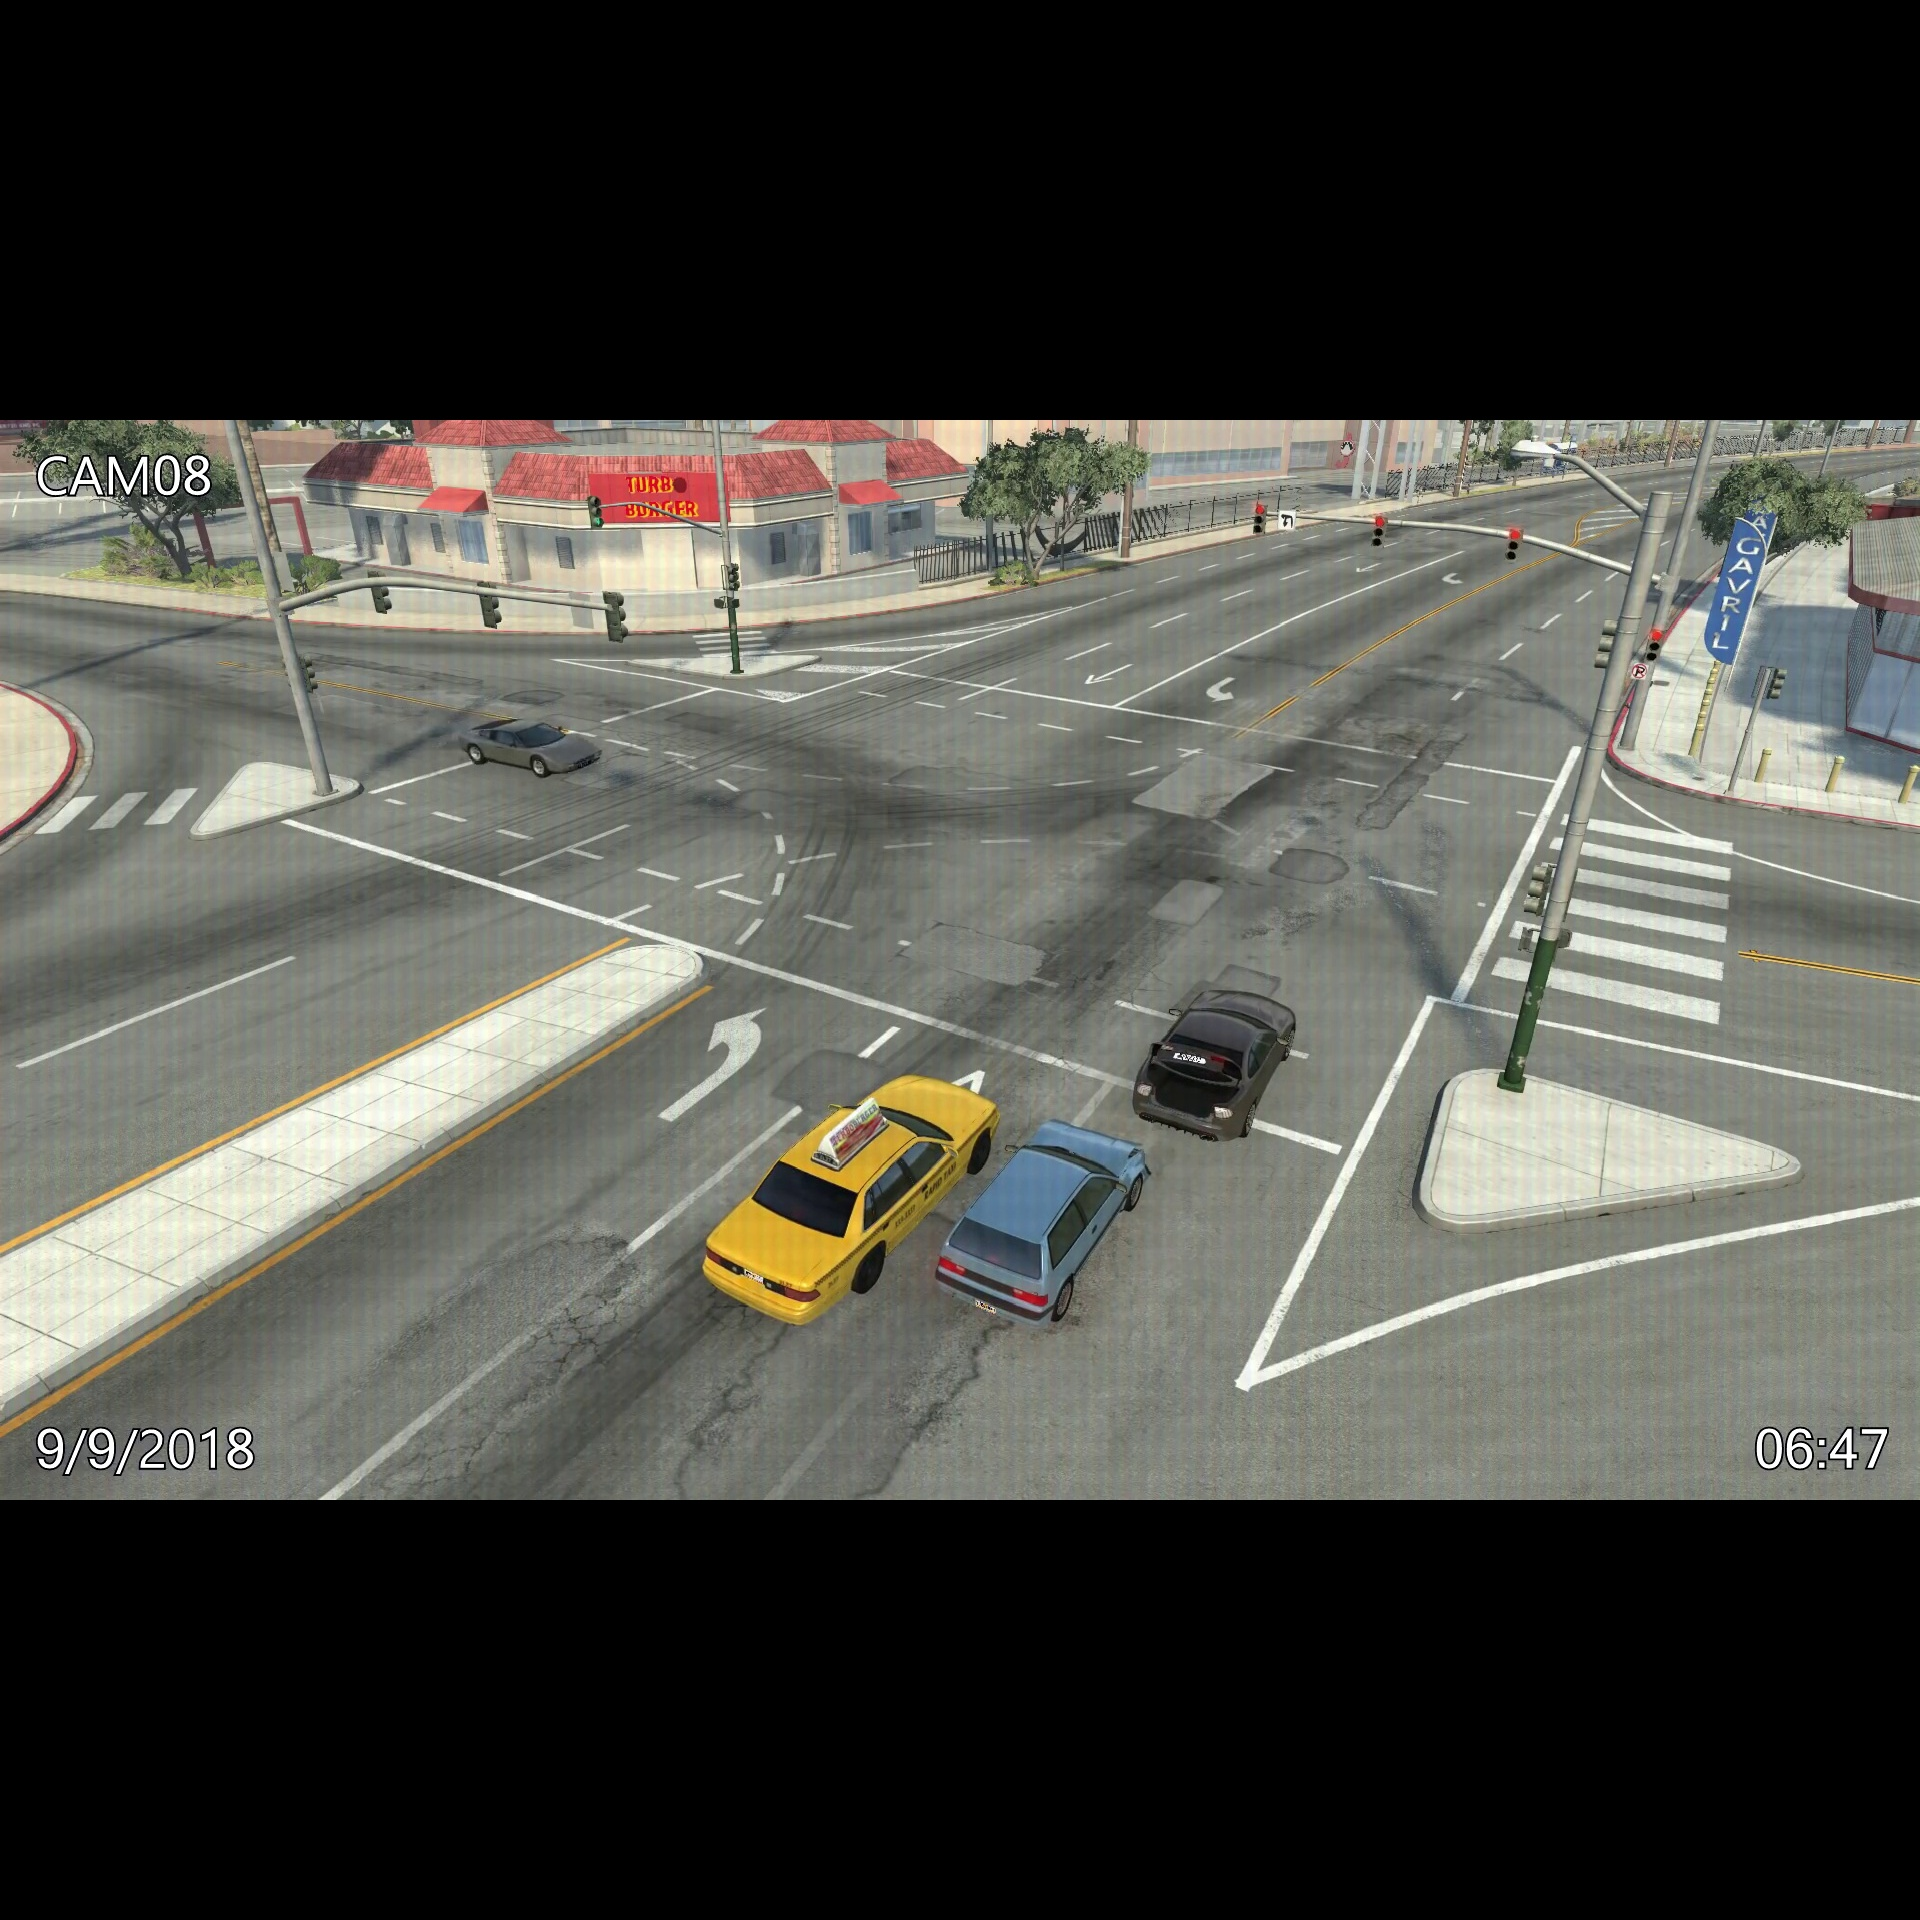vehicle: (693, 1073, 1000, 1329), (930, 1106, 1160, 1329), (1127, 979, 1306, 1146), (454, 707, 608, 781)
